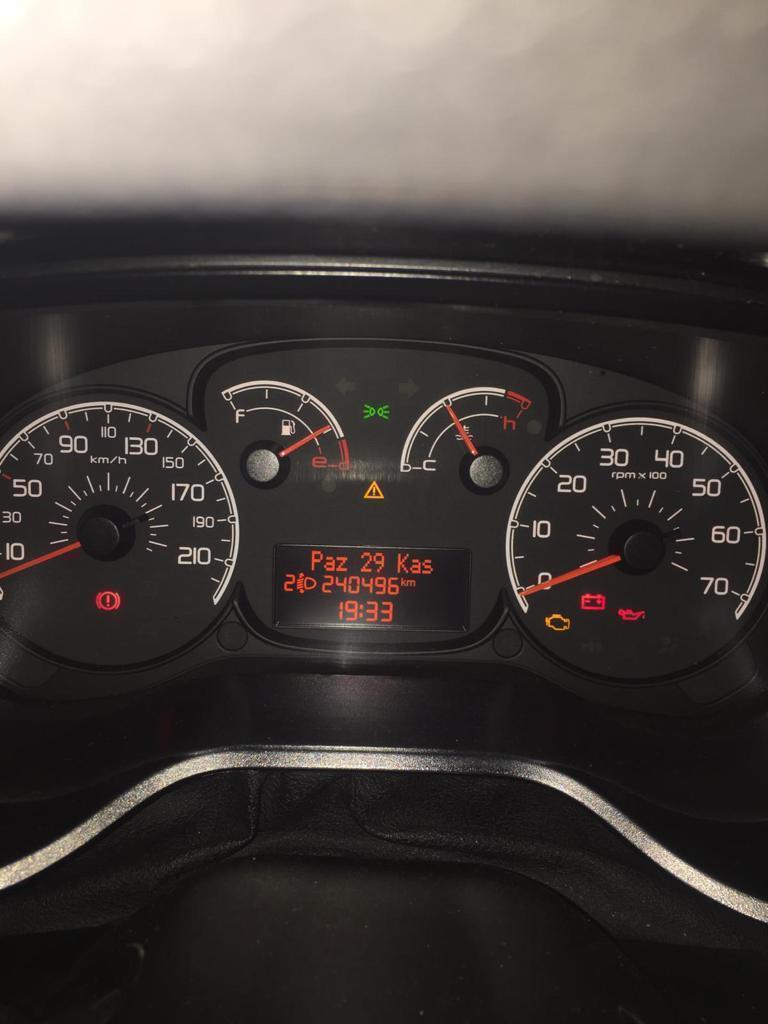0: (348, 575, 360, 594)
1: (339, 599, 342, 620)
2: (359, 551, 372, 572), (321, 574, 333, 593), (283, 573, 295, 591)
3: (365, 600, 377, 622), (380, 601, 392, 622)
4: (361, 576, 373, 593), (335, 575, 346, 593)
6: (388, 576, 399, 596)
9: (372, 551, 385, 572), (344, 599, 357, 620), (374, 576, 386, 594)
X: (395, 551, 409, 573), (311, 549, 323, 572), (421, 557, 433, 573), (335, 555, 347, 571), (410, 558, 421, 574), (324, 555, 335, 571), (358, 603, 363, 617), (407, 579, 415, 587), (400, 577, 406, 586)
odometer: (268, 535, 477, 635)
